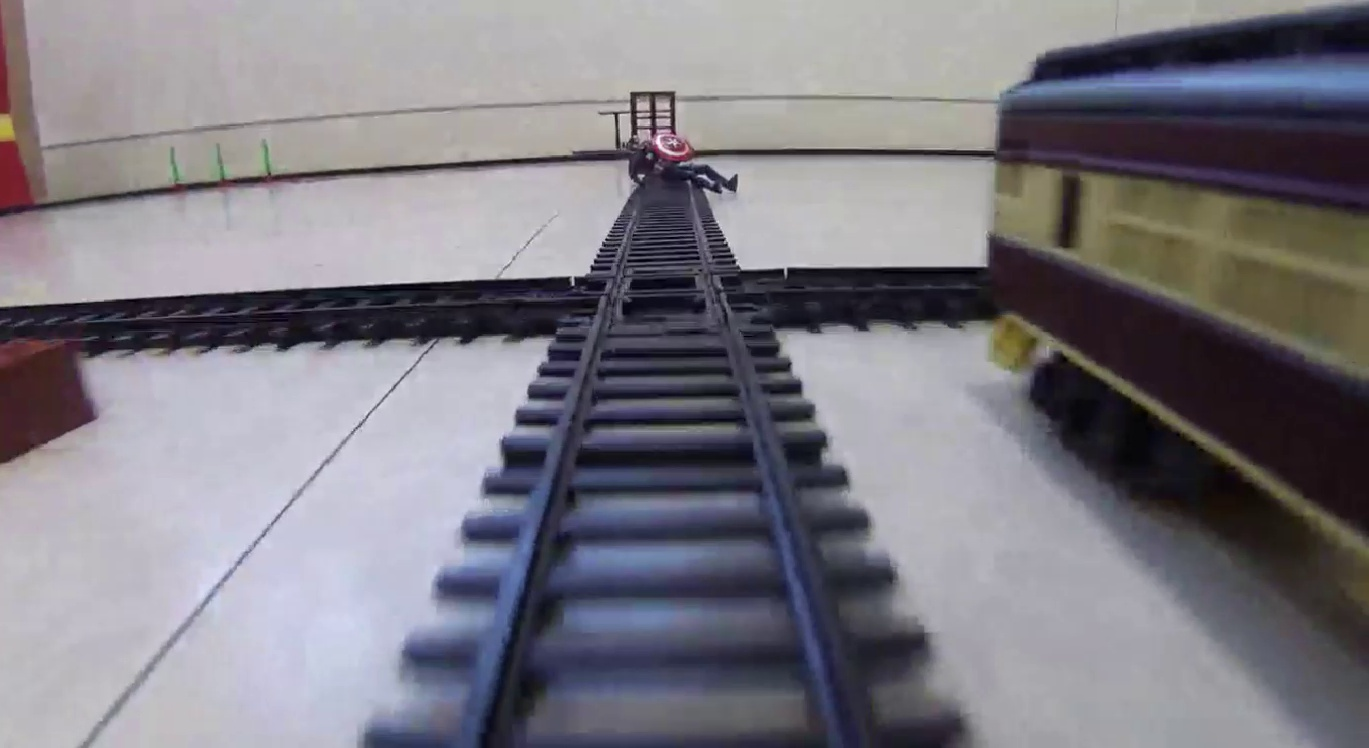people: (620, 132, 738, 193)
